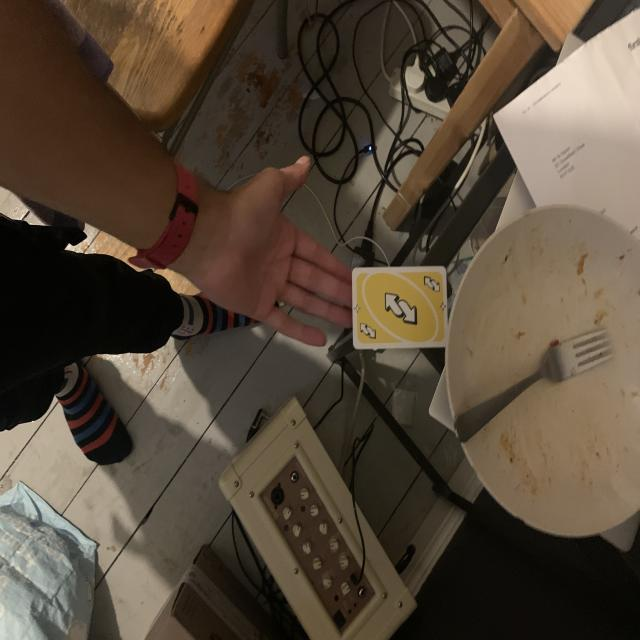lyellowrevers-20: (359, 319, 379, 342)
